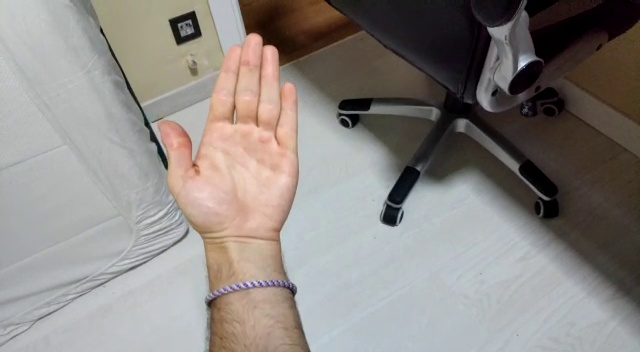Palm: (155, 33, 300, 245)
